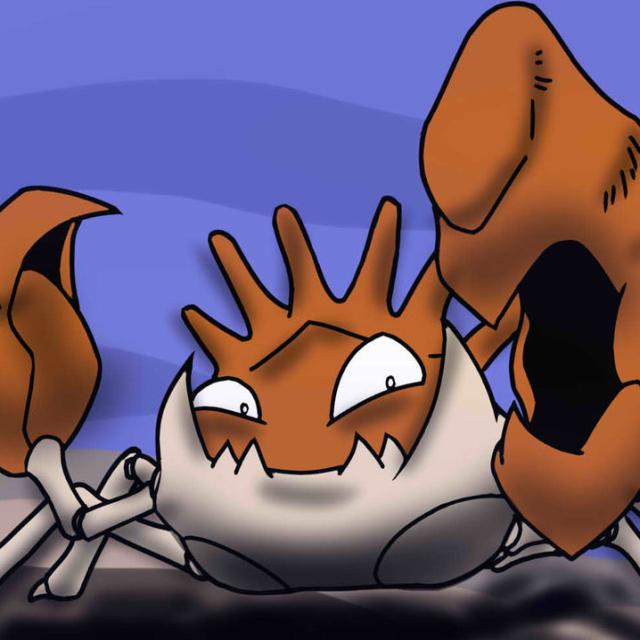Kingler: (12, 176, 627, 602)
